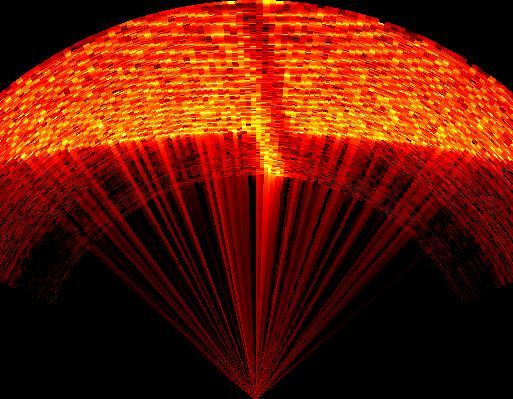pipe: (234, 2, 286, 135)
